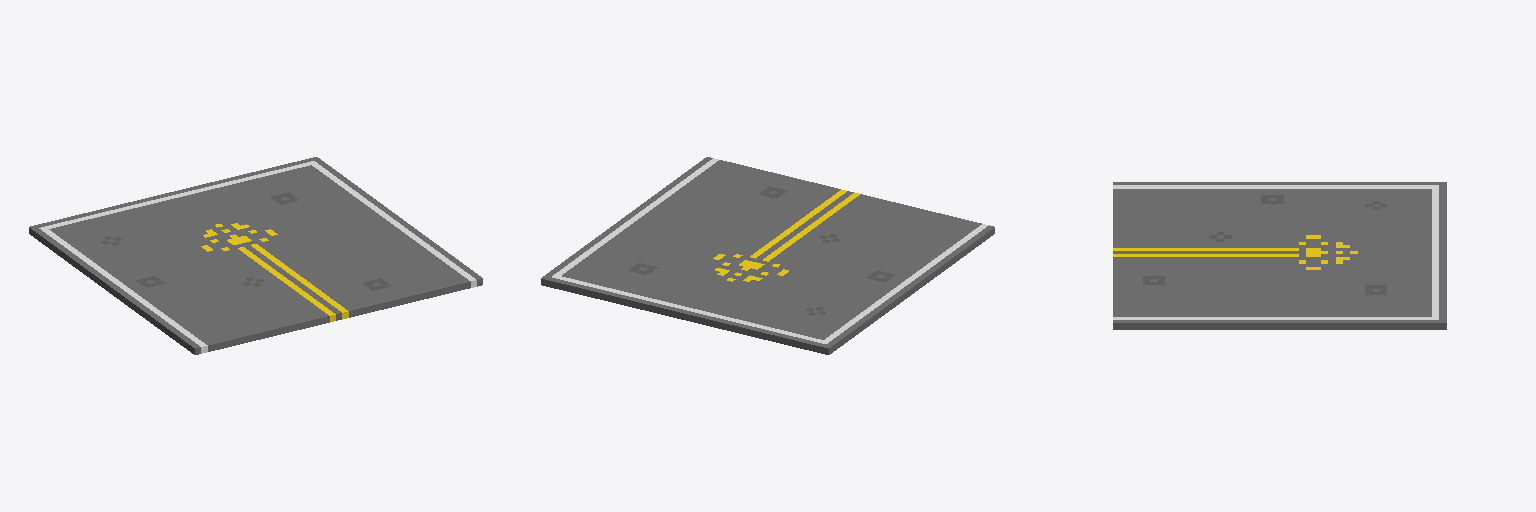
3 views of the same model, side by side, from view 1: azimuth 30°, elevation 25°; view 2: azimuth 150°, elevation 25°; view 3: azimuth 270°, elevation 25° (orthographic).
Parts seen in each view (by area): view 1: Box_84; view 2: Box_84; view 3: Box_84.
Boxes of the visible parts, <box> form: Box_84: <box>29,157,482,354</box>; Box_84: <box>541,157,994,354</box>; Box_84: <box>1113,182,1446,329</box>.
Bounding box in the file's own units: 45 × 1 × 45.
1 materials, 1 textured.